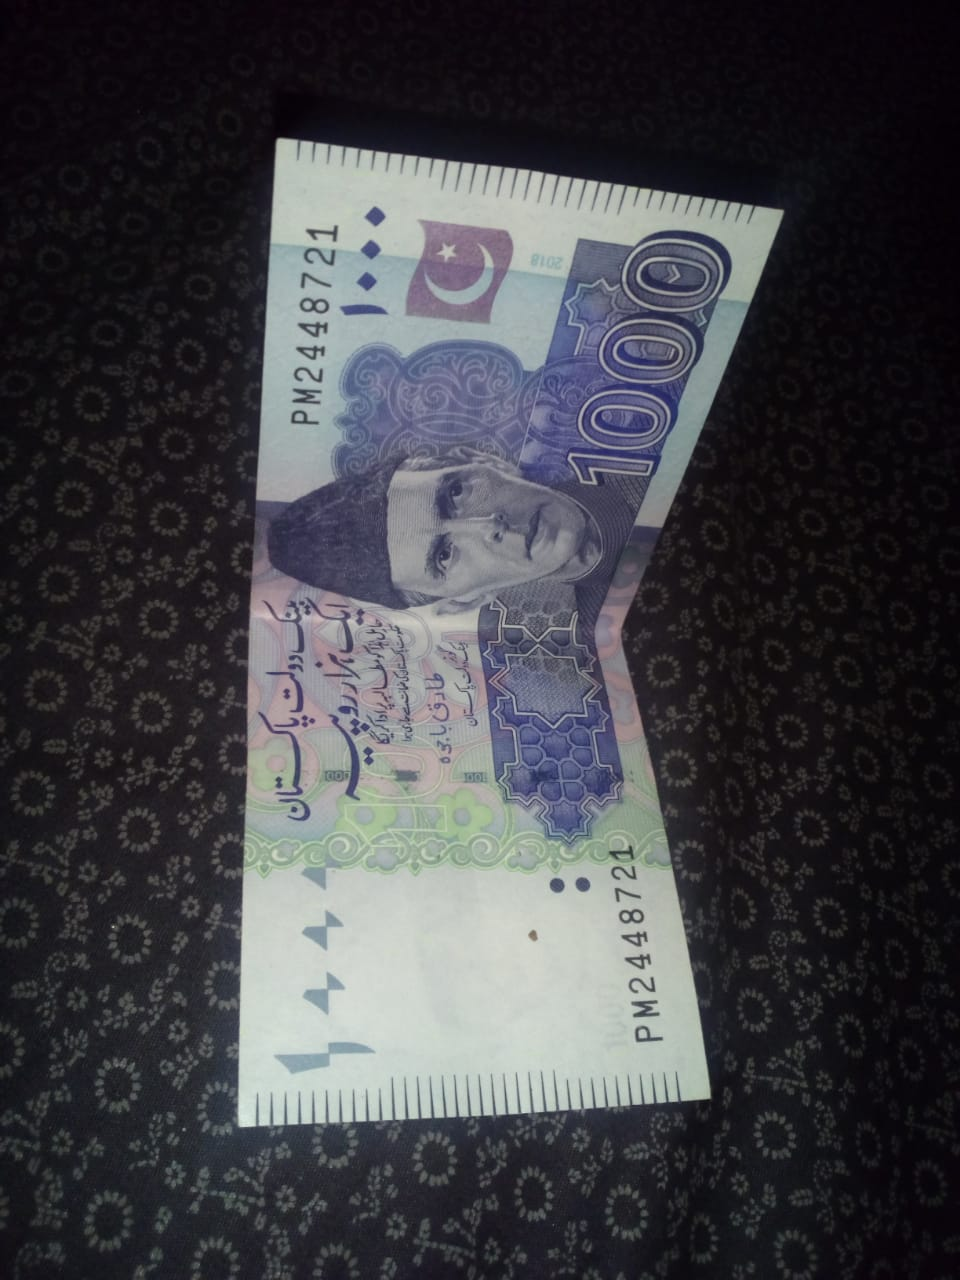1000 rupee: (172, 103, 812, 1174)
